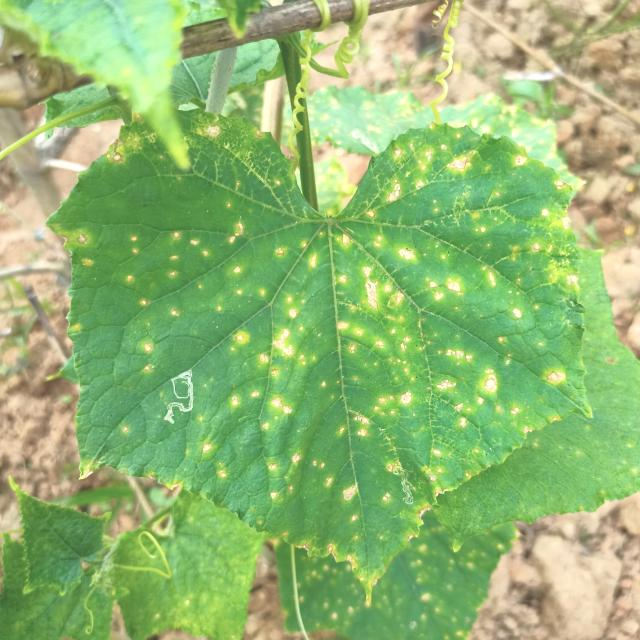disease_cucumber: (78, 135, 572, 547)
